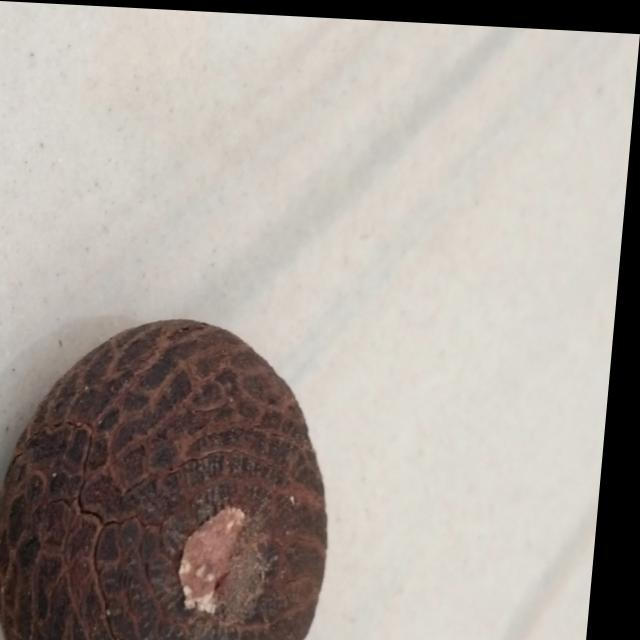karigot: (0, 222, 396, 640)
